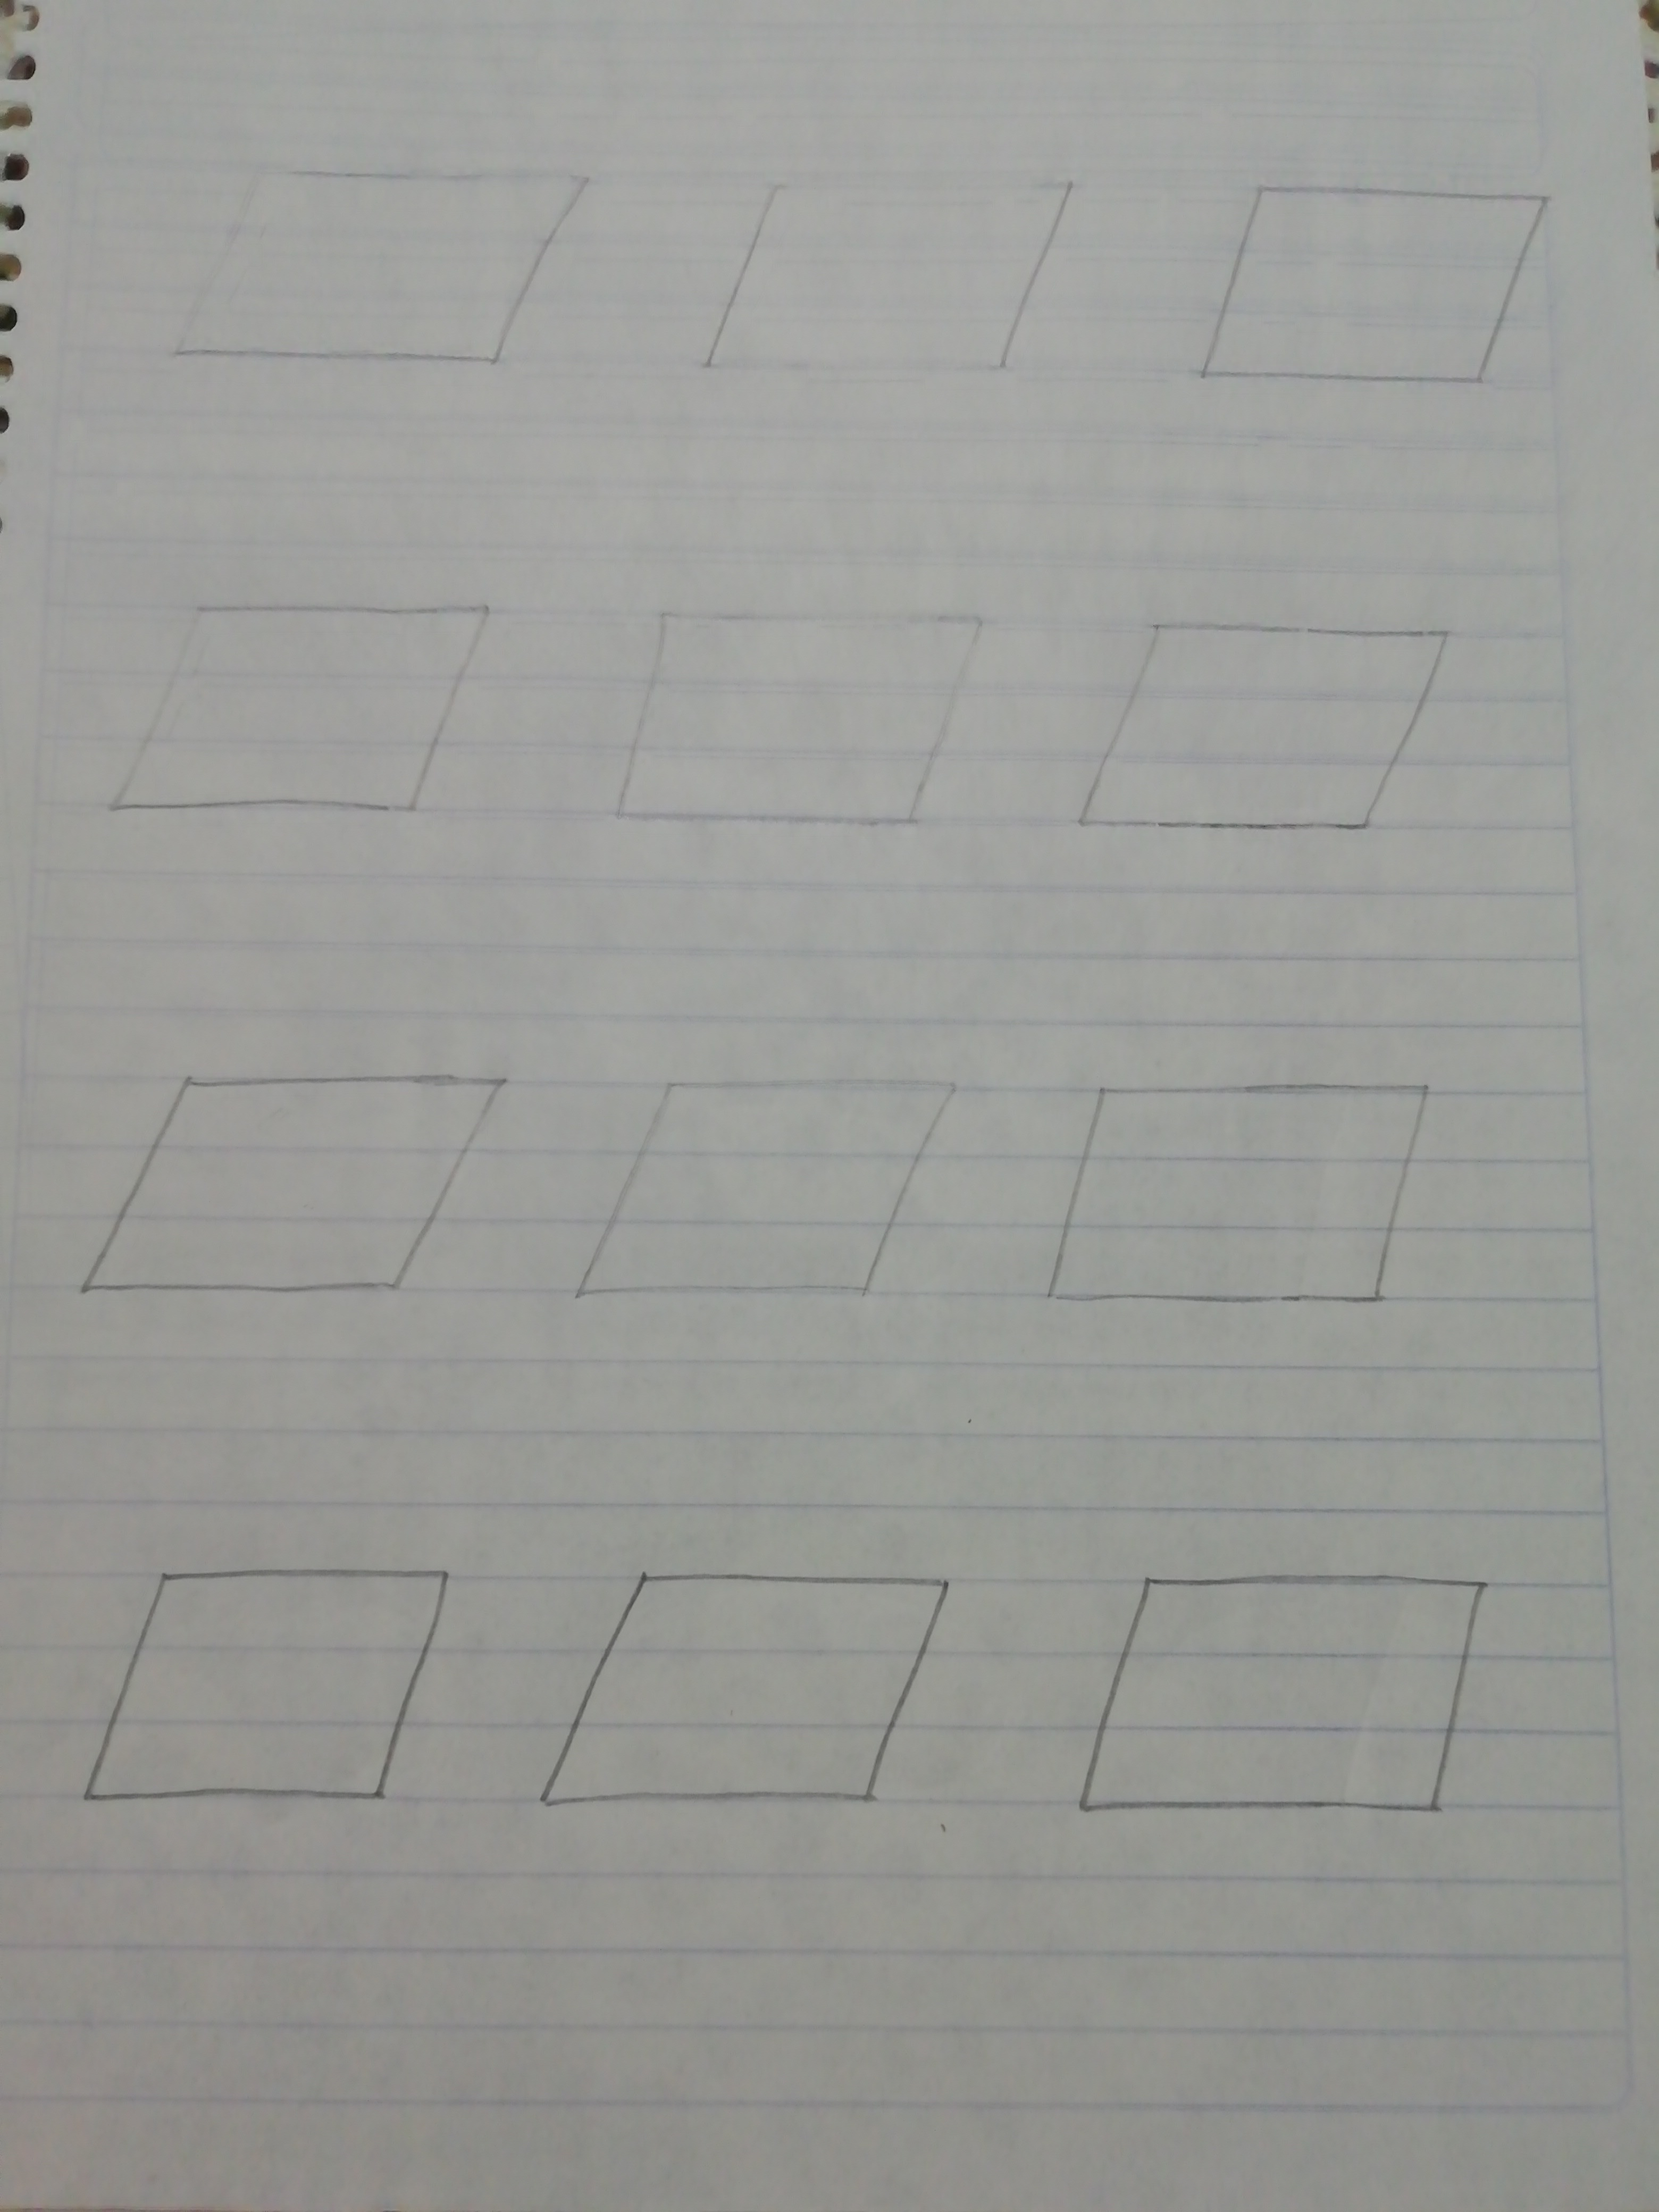scan: (37, 1031, 523, 1362), (1044, 1527, 1516, 1867), (516, 1541, 976, 1864), (136, 113, 622, 418), (37, 1534, 481, 1867), (678, 127, 1103, 469), (551, 1035, 983, 1353), (1030, 1045, 1469, 1357), (61, 571, 526, 857), (587, 578, 1009, 883), (1061, 582, 1473, 880), (1164, 138, 1575, 432)
